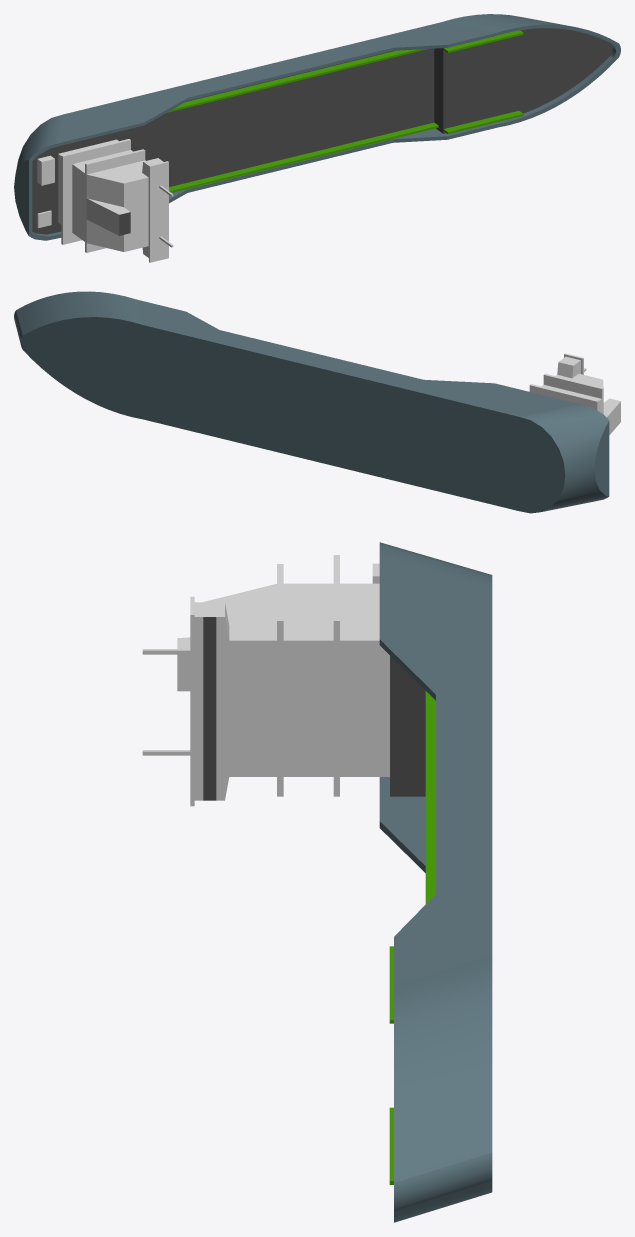
File: container_ship_empty.dae
3 renders of one model, top to bottom at view 1: azimuth 30°, elevation 25°; view 2: azimuth 150°, elevation 25°; view 3: azimuth 270°, elevation 25°, orthographic. The views are drawn at different scales.
Parts seen in each view (by area): view 1: coords_ME_ID47_MA_material, coords_ME_ID11_MA_material_16, coords_ME_ID3_MA_material_8, coords_ME_ID19_MA_material_1, coords_ME_ID53_MA_material_1, coords_ME_ID41_MA_material_1, coords_ME_ID71_MA_material_8, coords_ME_ID27_MA_material_1; view 2: coords_ME_ID11_MA_material_16, coords_ME_ID3_MA_material_8; view 3: coords_ME_ID11_MA_material_16, coords_ME_ID3_MA_material_8, coords_ME_ID47_MA_material, coords_ME_ID33_MA_material, coords_ME_ID53_MA_material_1.
Part boxes in pixels (left/top/right/bottom): coords_ME_ID47_MA_material: left=32, top=28, right=612, bottom=234; coords_ME_ID11_MA_material_16: left=14, top=14, right=620, bottom=240; coords_ME_ID3_MA_material_8: left=58, top=139, right=168, bottom=262; coords_ME_ID19_MA_material_1: left=169, top=122, right=438, bottom=192; coords_ME_ID53_MA_material_1: left=167, top=49, right=427, bottom=112; coords_ME_ID41_MA_material_1: left=443, top=110, right=523, bottom=133; coords_ME_ID71_MA_material_8: left=37, top=155, right=54, bottom=185; coords_ME_ID27_MA_material_1: left=443, top=30, right=523, bottom=52; coords_ME_ID11_MA_material_16: left=14, top=291, right=609, bottom=513; coords_ME_ID3_MA_material_8: left=529, top=353, right=620, bottom=434; coords_ME_ID11_MA_material_16: left=379, top=542, right=492, bottom=1222; coords_ME_ID3_MA_material_8: left=177, top=555, right=389, bottom=806; coords_ME_ID47_MA_material: left=390, top=656, right=425, bottom=796; coords_ME_ID33_MA_material: left=203, top=617, right=216, bottom=800; coords_ME_ID53_MA_material_1: left=425, top=691, right=435, bottom=903.
Bounding box in the file's own units: 992 × 153 × 254.
